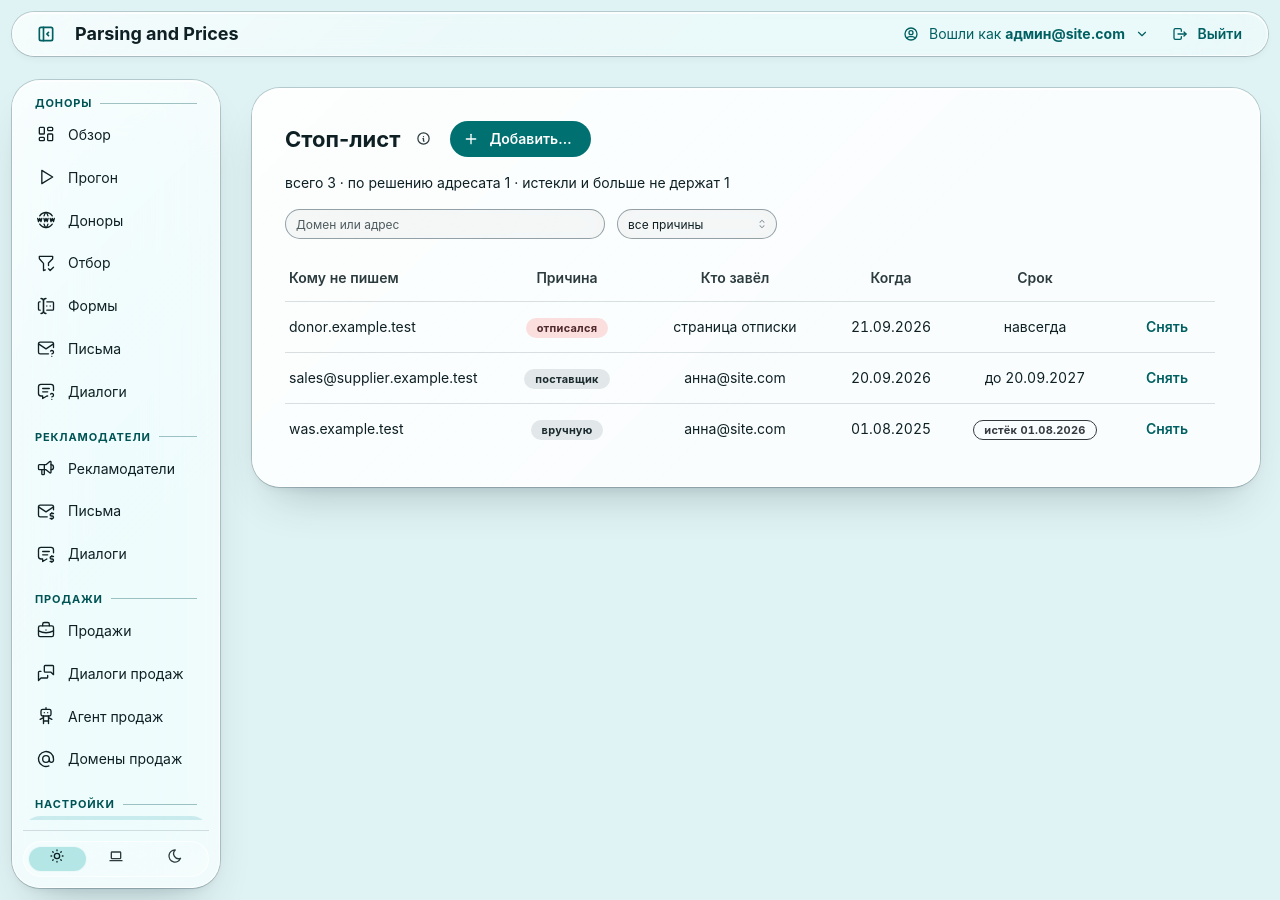
Test case: стоп-лист › поиск и причина сужают список, не спрашивая сервер
expect the text "donor.example.test" is shown: met, box x1=285 y1=302 x2=495 y2=352
Step 1. Type "was." into the field named "Поиск по домену или адресу" → (445, 224), box x1=285 y1=209 x2=605 y2=239
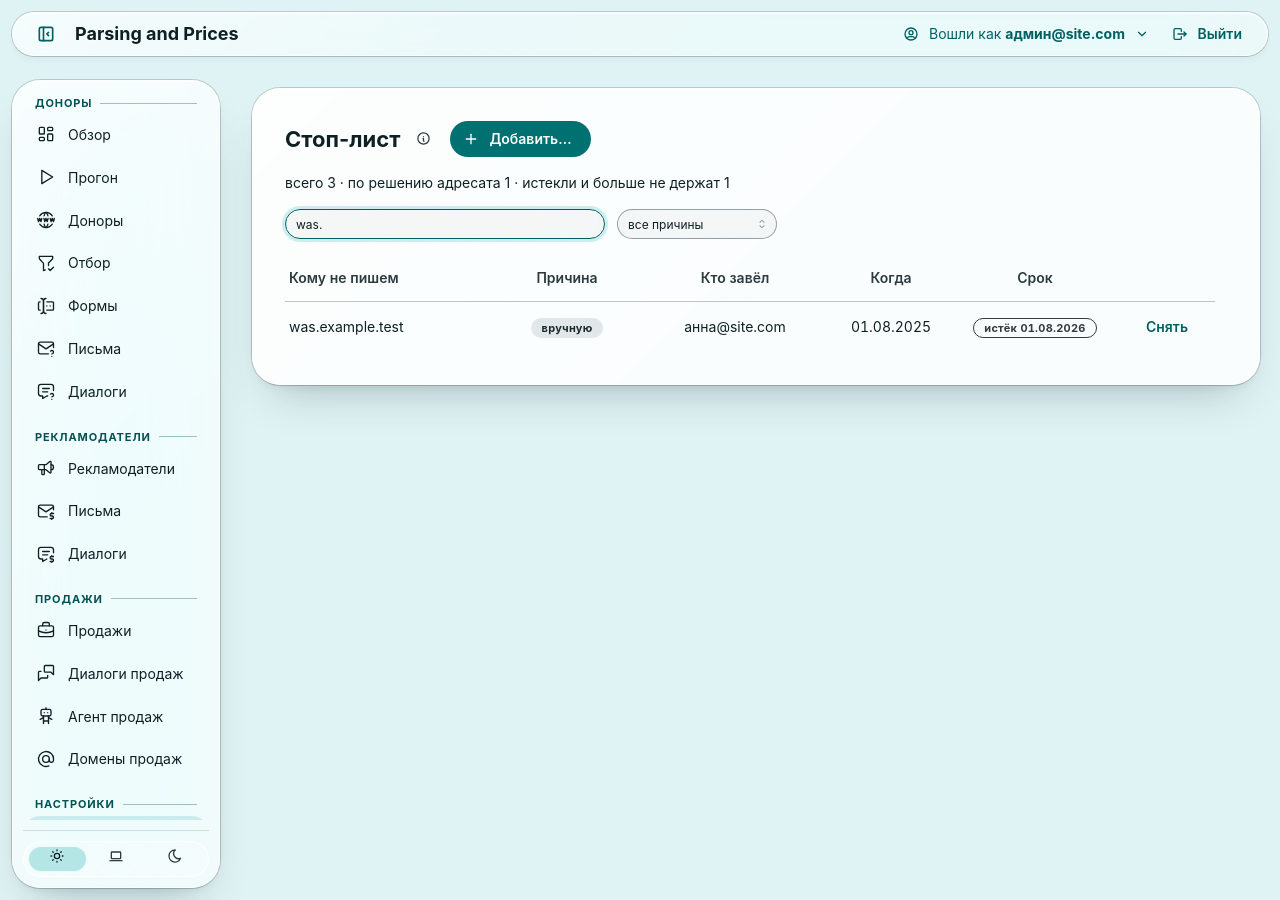
expect the text "was.example.test" is shown: met, box x1=285 y1=302 x2=495 y2=352
expect the text "donor.example.test" is gone: met
